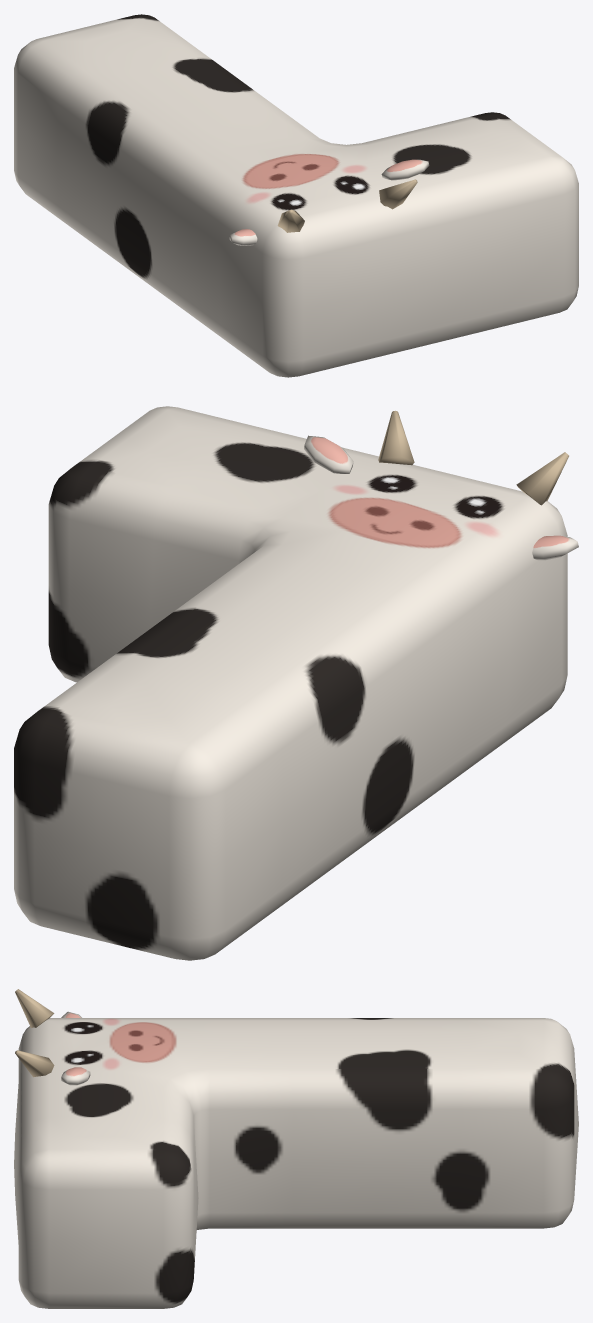
File: Cow_L.fbx
3 renders of one model, top to bottom at view 1: azimuth 30°, elevation 25°; view 2: azimuth 150°, elevation 25°; view 3: azimuth 270°, elevation 25°, orthographic. The views are drawn at different scales.
Parts seen in each view (by area): view 1: Cow_L; view 2: Cow_L; view 3: Cow_L.
Part boxes in pixels (box(x1,y1,x2,y2)): Cow_L: box(14, 14, 578, 377); Cow_L: box(14, 406, 578, 960); Cow_L: box(14, 989, 578, 1308).
Bounding box in the file's own units: 2.08 × 1.02 × 2.97.
1 material, 1 textured.
